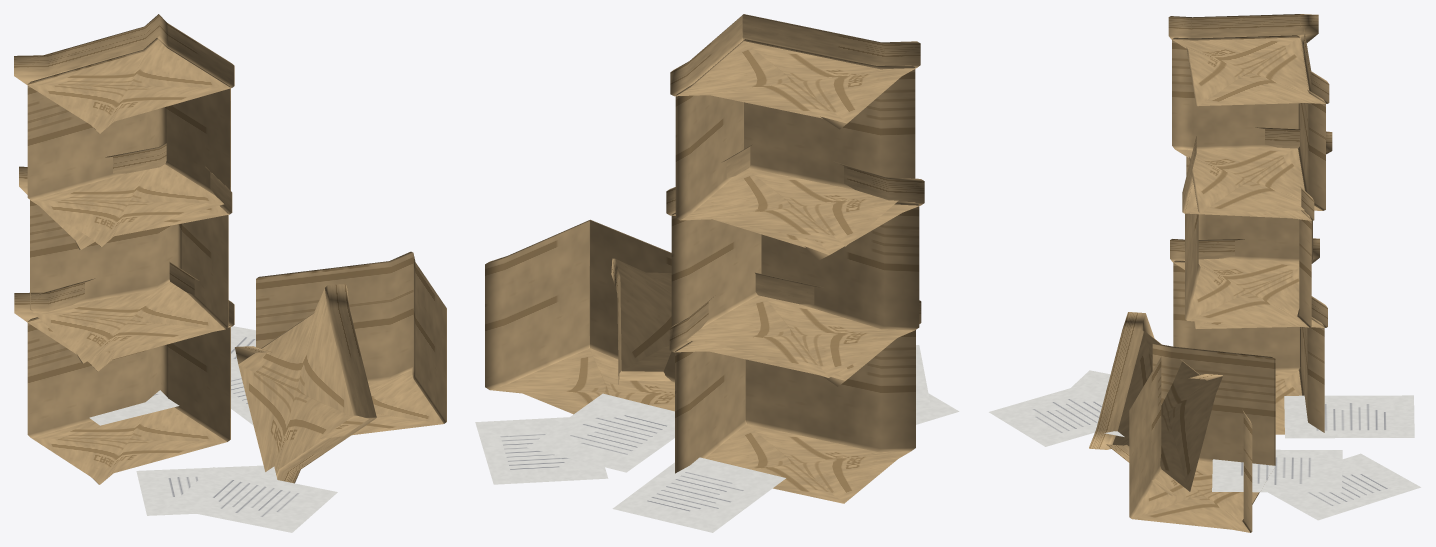
File: banker_boxes.glb
The picture shows the model from 3 angles, left to right: view 1: azimuth 30°, elevation 25°; view 2: azimuth 150°, elevation 25°; view 3: azimuth 270°, elevation 25°; orthographic projection. The views are drawn at different scales.
Visible parts, largest first — view 1: Box_3, Box_1, Box_2, Box_4, Lid_Leaning, Bankers_Boxes; view 2: Box_3, Box_2, Box_1, Box_4, Bankers_Boxes, Lid_Leaning; view 3: Box_3, Bankers_Boxes, Box_4, Box_2, Box_1, Lid_Leaning.
Part boxes in pixels (left/top/right/bottom): Box_3: left=14, top=14, right=234, bottom=246; Box_1: left=14, top=261, right=234, bottom=484; Box_2: left=19, top=142, right=232, bottom=363; Box_4: left=256, top=251, right=446, bottom=438; Lid_Leaning: left=235, top=284, right=376, bottom=483; Bankers_Boxes: left=89, top=326, right=337, bottom=532; Box_3: left=670, top=14, right=920, bottom=246; Box_2: left=666, top=145, right=924, bottom=377; Box_1: left=669, top=272, right=921, bottom=503; Box_4: left=485, top=219, right=674, bottom=414; Bankers_Boxes: left=475, top=345, right=959, bottom=532; Lid_Leaning: left=611, top=258, right=671, bottom=384; Box_3: left=1168, top=14, right=1329, bottom=213; Bankers_Boxes: left=989, top=370, right=1420, bottom=520; Box_4: left=1129, top=343, right=1275, bottom=532; Box_2: left=1182, top=127, right=1332, bottom=327; Box_1: left=1170, top=238, right=1327, bottom=434; Lid_Leaning: left=1089, top=312, right=1222, bottom=495.
Bounding box in the file's own units: 0.8644 × 0.8828 × 0.9313.
Materials: 2 (2 with a texture image).
